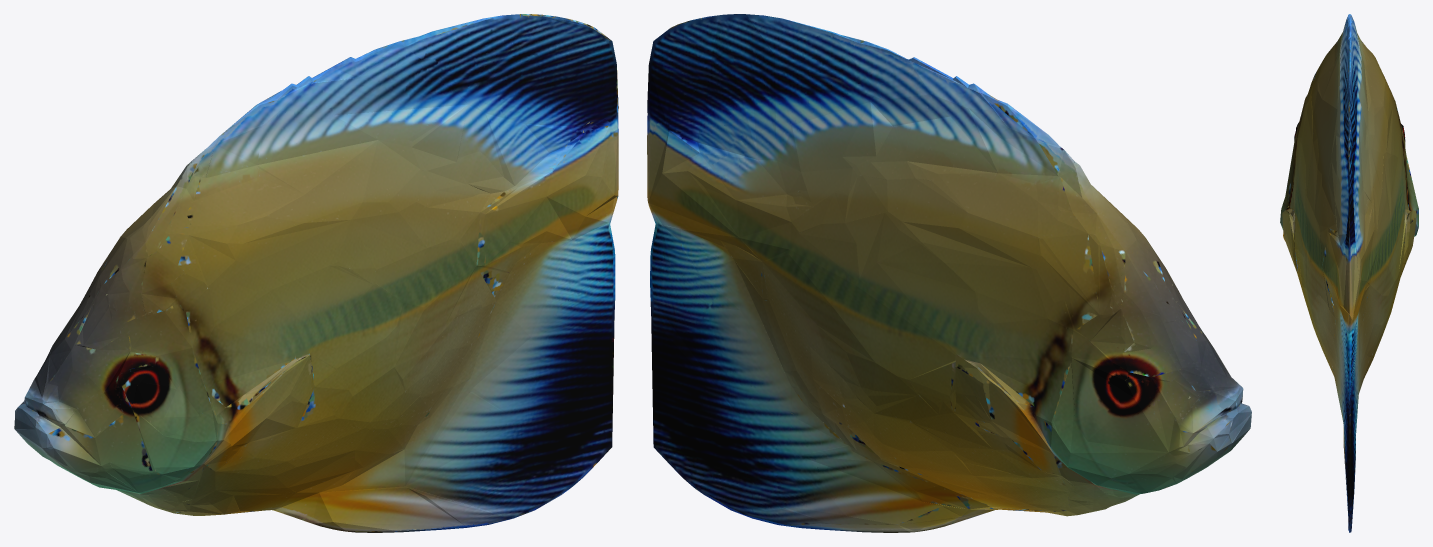
Rendered from fish_0095_smpl23_resized.glb.
3 views of the same model, side by side, from view 1: azimuth 30°, elevation 25°; view 2: azimuth 150°, elevation 25°; view 3: azimuth 270°, elevation 25° (orthographic). The views are drawn at different scales.
Visible parts, largest first — view 1: world; view 2: world; view 3: world.
Part boxes in pixels (x1,y1,x2,y2): world: [14, 14, 618, 532]; world: [647, 14, 1251, 532]; world: [1280, 14, 1418, 532].
Bounding box in the file's own units: 1.99 × 1.62 × 0.4743.
1 material, 1 textured.
